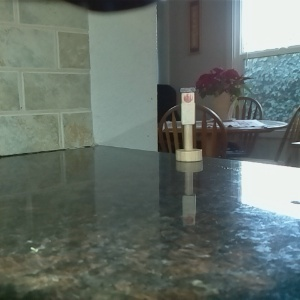traffic light red: (173, 85, 204, 163)
